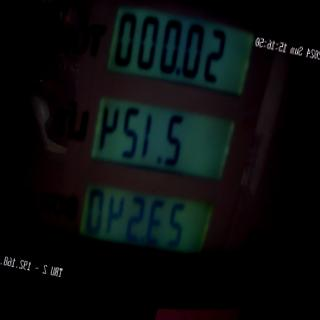screen: (56, 0, 261, 299)
